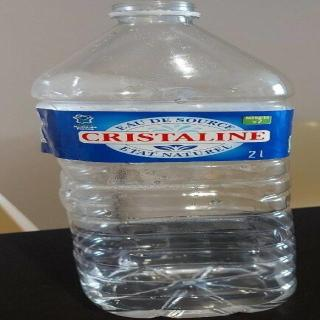Anorganik: (43, 1, 305, 316)
